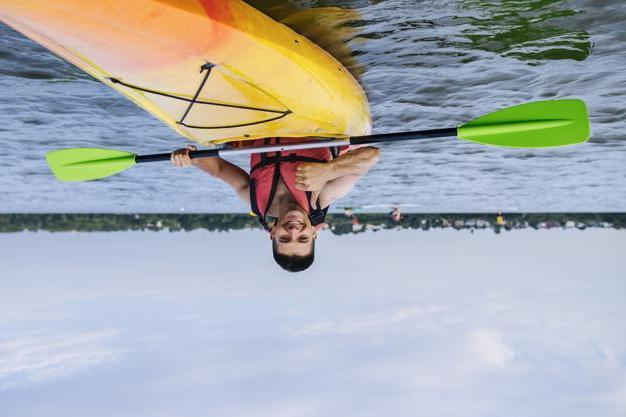thumbsdown: (295, 163, 319, 210)
